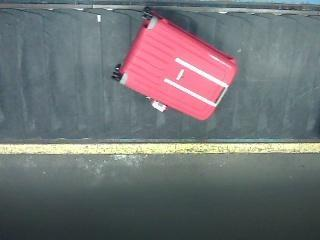Suitcase: (111, 8, 238, 120)
